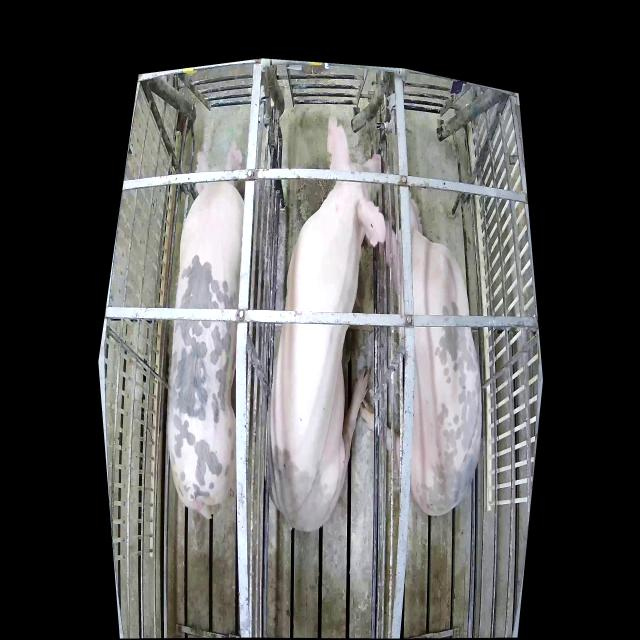pig: (269, 109, 388, 529), (360, 184, 483, 517), (166, 137, 244, 516)
